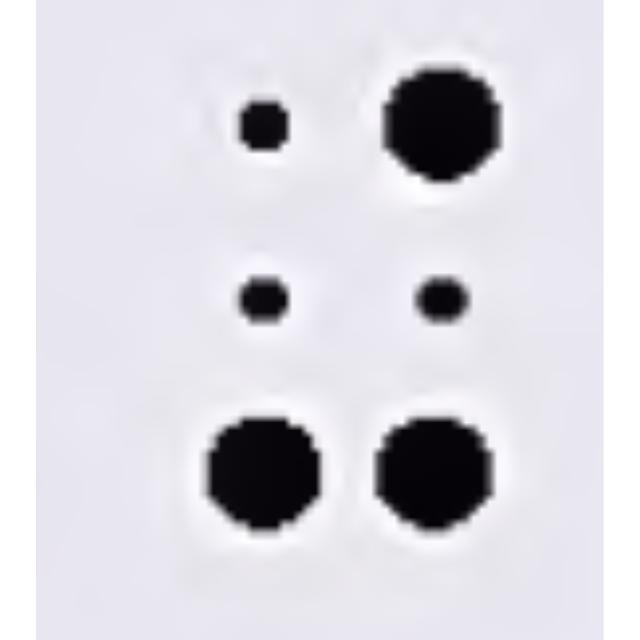one_cell_part_word_ing: (203, 63, 505, 532)
